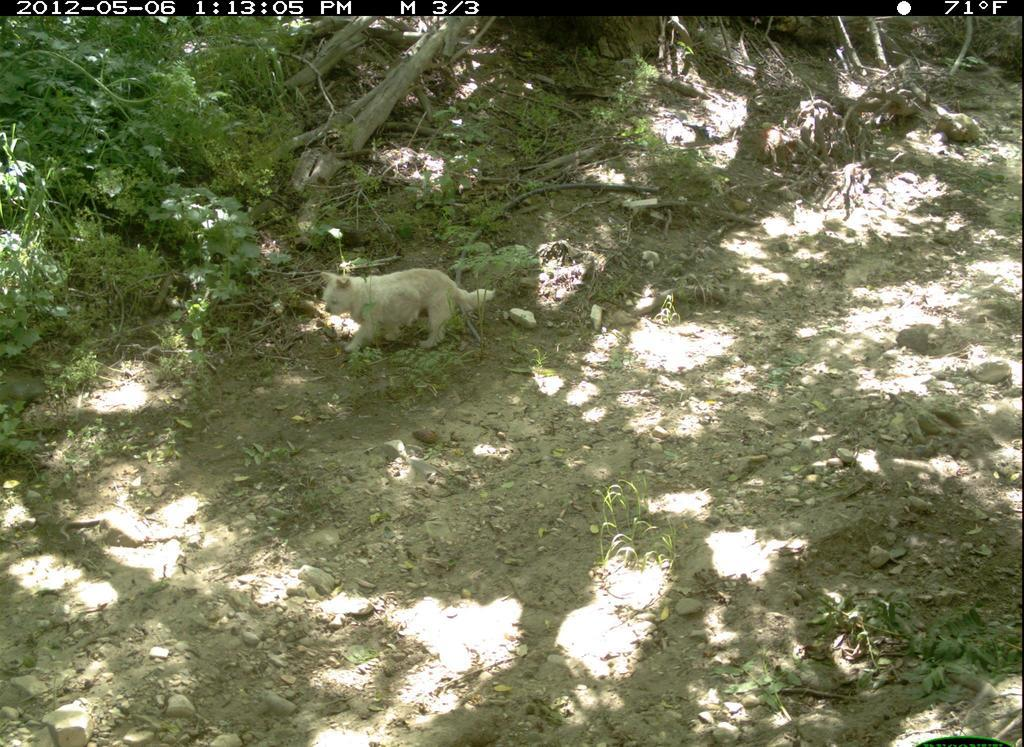dog: (306, 255, 504, 363)
